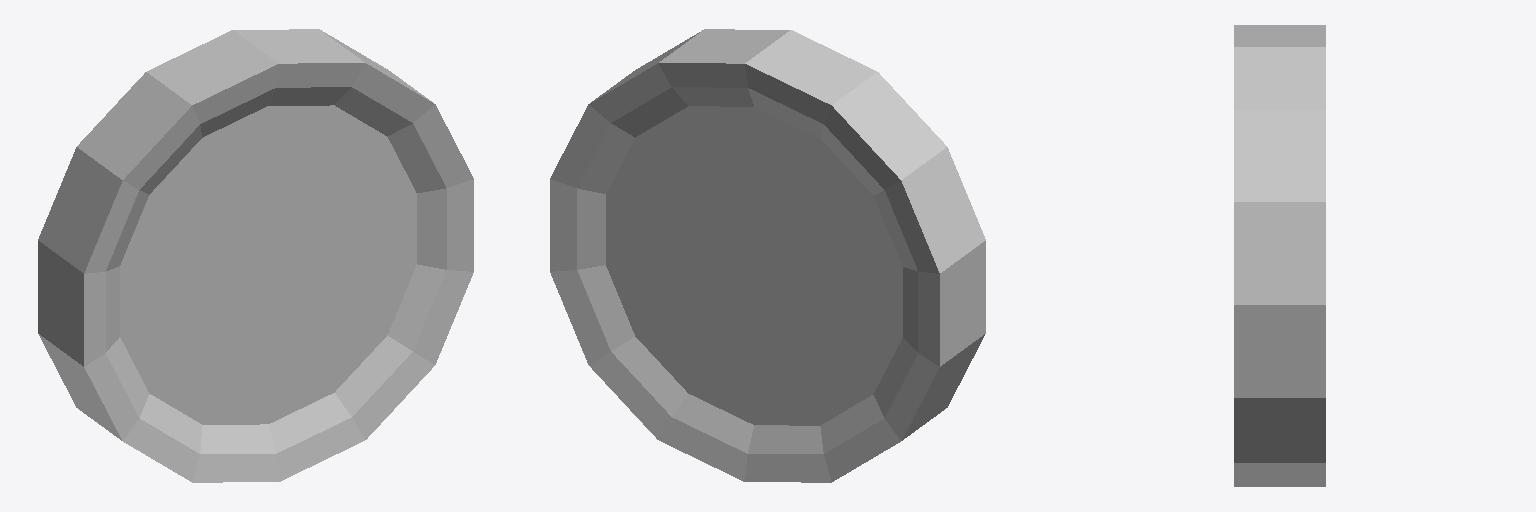
File: Coins.obj
The picture shows the model from 3 angles: view 1: azimuth 30°, elevation 25°; view 2: azimuth 150°, elevation 25°; view 3: azimuth 270°, elevation 25°; orthographic projection.
Visible parts, largest first — view 1: Circle; view 2: Circle; view 3: Circle.
Boxes of the visible parts, x1=… form: Circle: x1=38, y1=29, x2=473, y2=482; Circle: x1=550, y1=29, x2=985, y2=482; Circle: x1=1234, y1=25, x2=1325, y2=486.
Size of the model in its own units: 1.95 by 2 by 0.4.